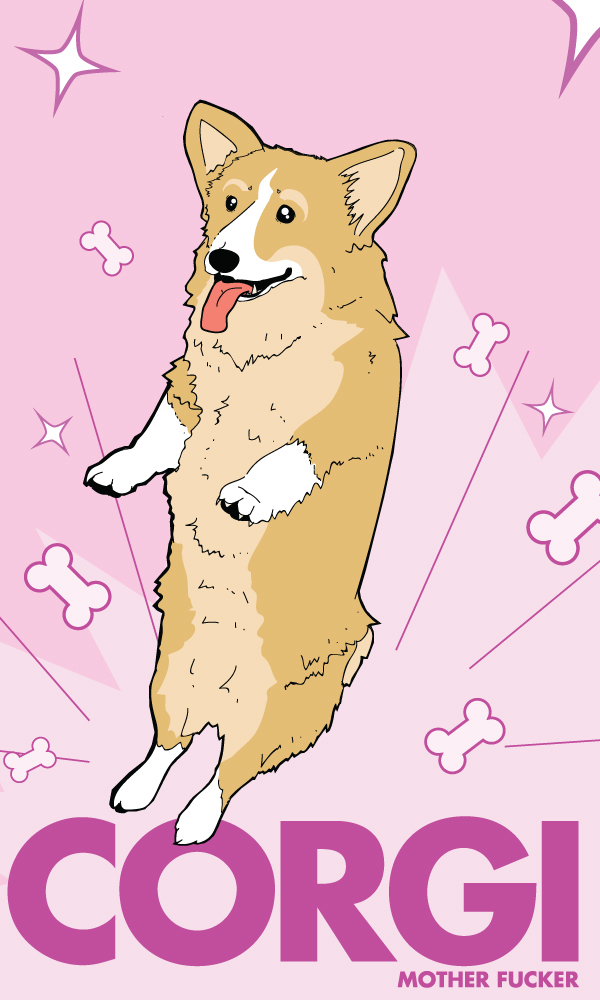dog: (54, 86, 427, 856)
